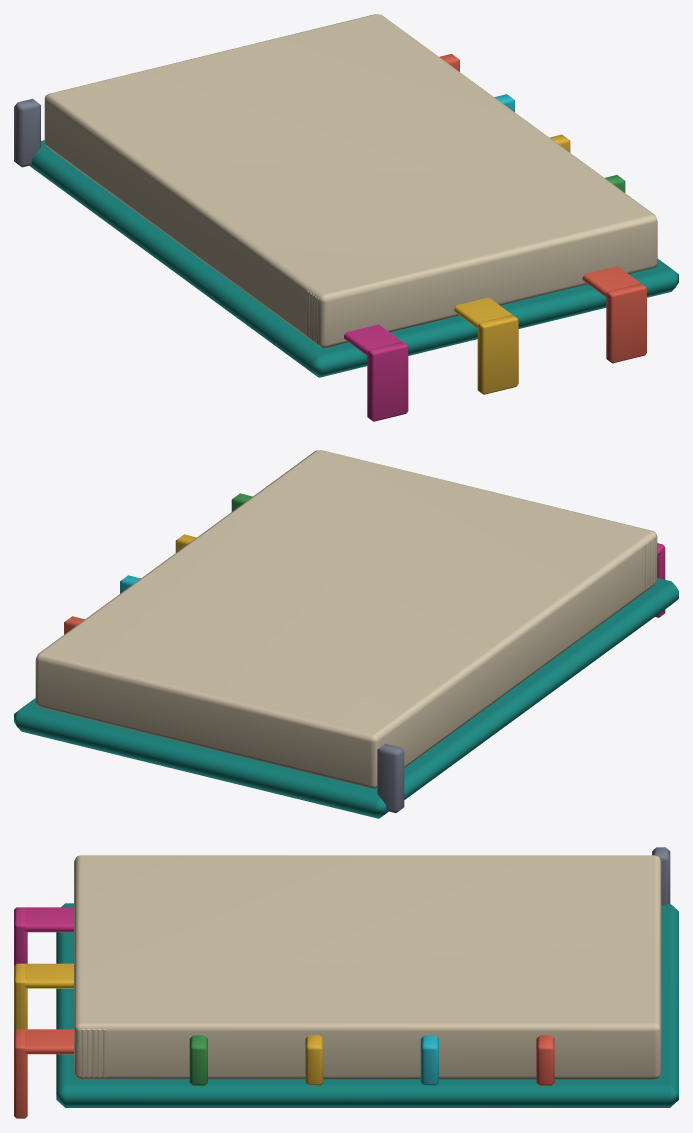
Rendered from SM_Prop_ScriptBook_Base.fbx.
3 renders of one model, top to bottom at view 1: azimuth 30°, elevation 25°; view 2: azimuth 150°, elevation 25°; view 3: azimuth 270°, elevation 25°, orthographic. The views are drawn at different scales.
Parts seen in each view (by area): view 1: SM_Prop_ScriptBook_Base; view 2: SM_Prop_ScriptBook_Base; view 3: SM_Prop_ScriptBook_Base.
Part boxes in pixels (x1,y1,x2,y2): SM_Prop_ScriptBook_Base: [14, 14, 678, 421]; SM_Prop_ScriptBook_Base: [14, 450, 678, 818]; SM_Prop_ScriptBook_Base: [14, 847, 678, 1118].
Bounding box in the file's own units: 105 × 28.57 × 150.
